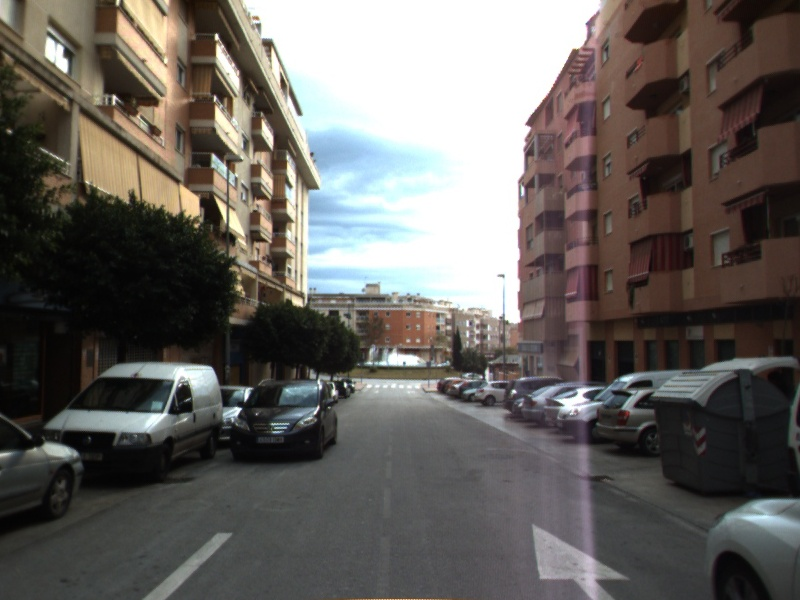STRAIGHT: (529, 520, 634, 600)
